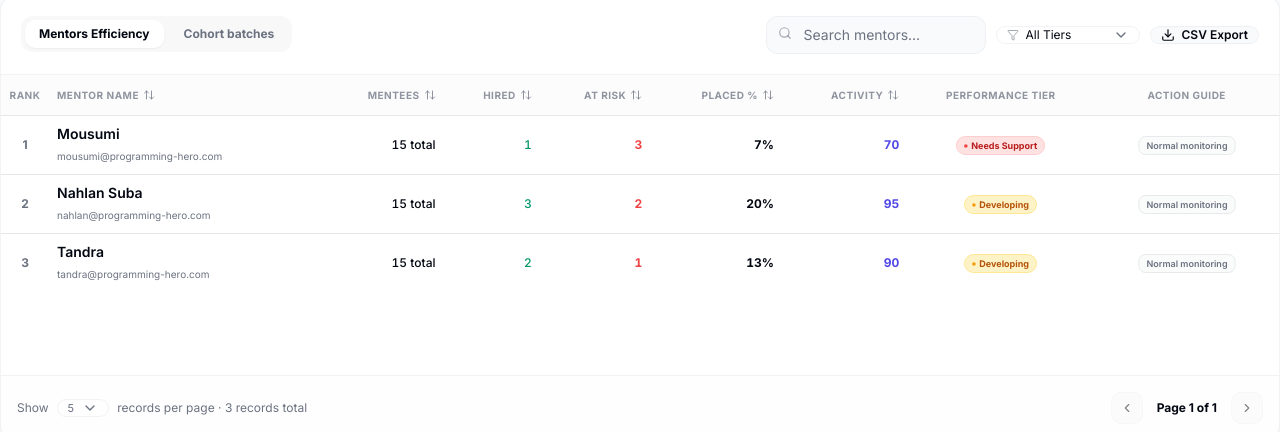
DetailedAnalyticsTable › Filters cohorts list via Search input
Click the button "Cohort batches": click(229, 34) top-left (170, 20), bottom-right (288, 48)
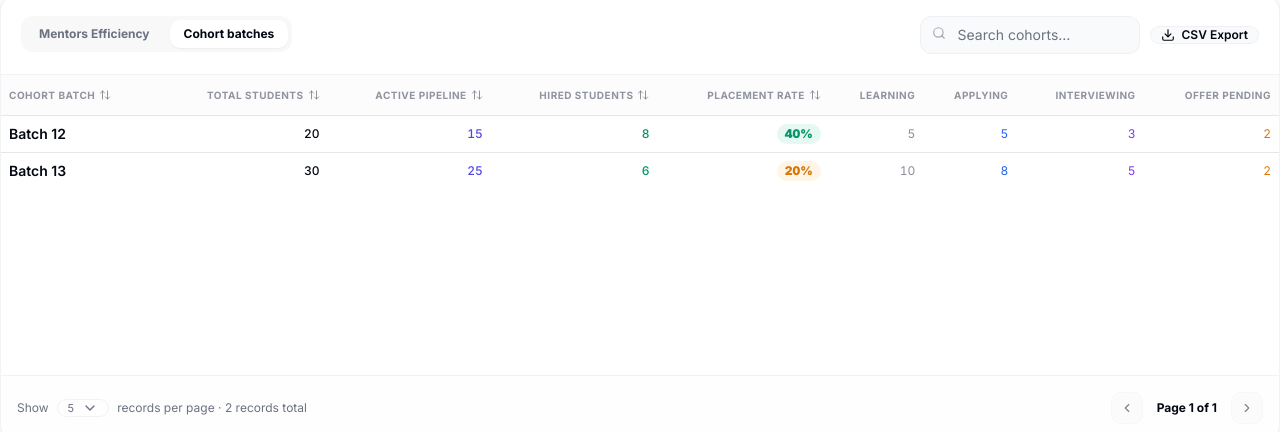
In the field with placeholder "Search cohorts…": (1030, 35) top-left (920, 16), bottom-right (1140, 54), type "12"
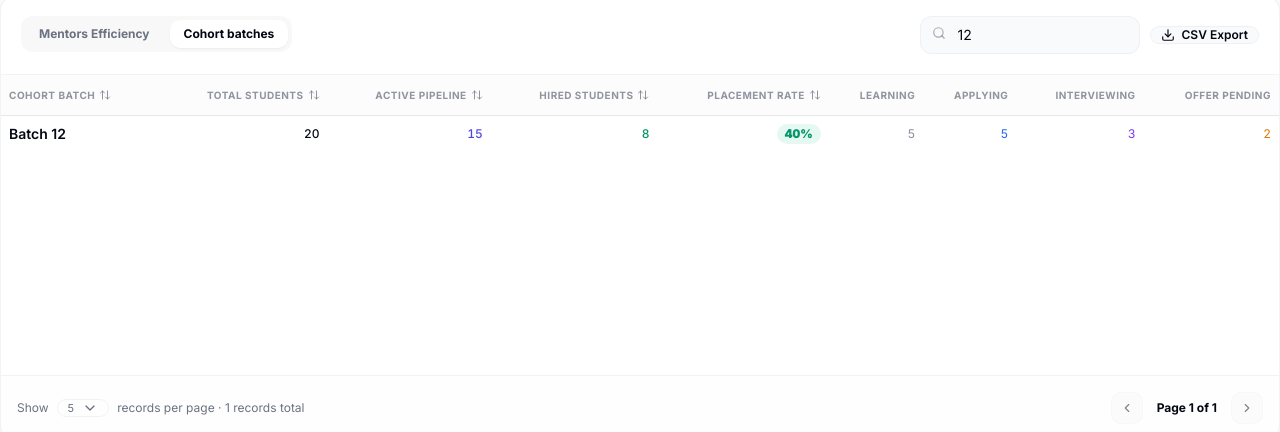
Check: the text "Batch 12" is shown, box top-left (1, 115), bottom-right (158, 152)
Check: the text "Batch 13" is gone
